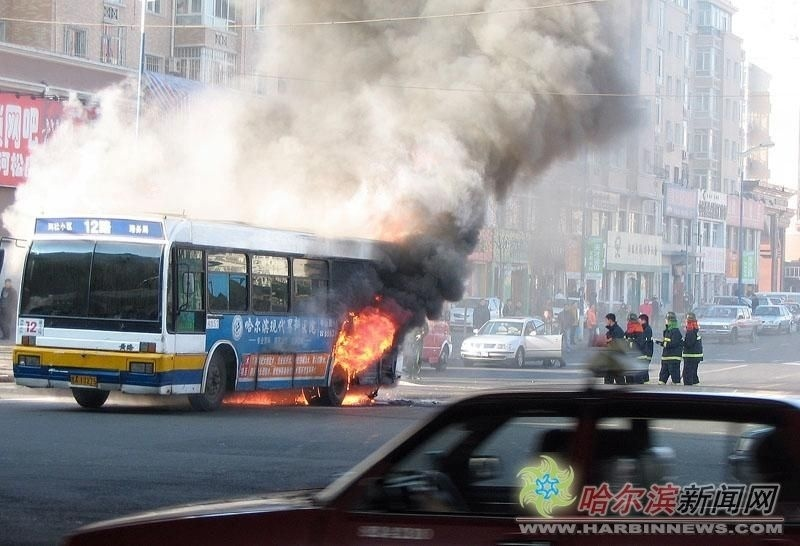fire: (332, 299, 401, 405)
